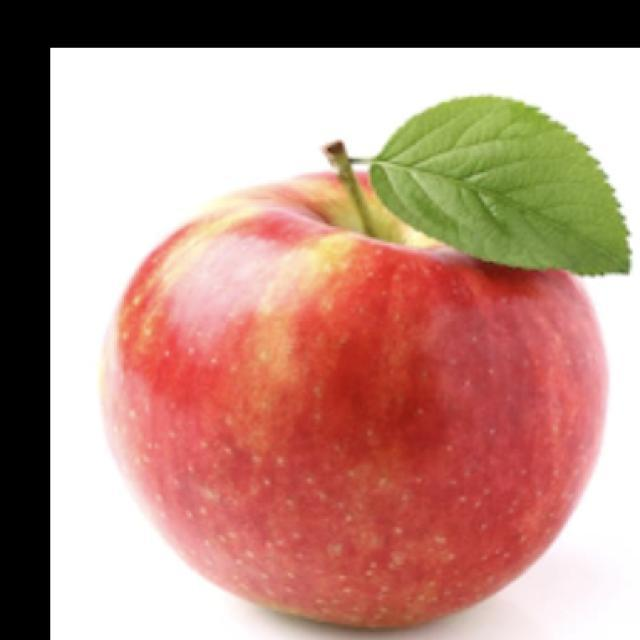Apple: (98, 142, 613, 631)
